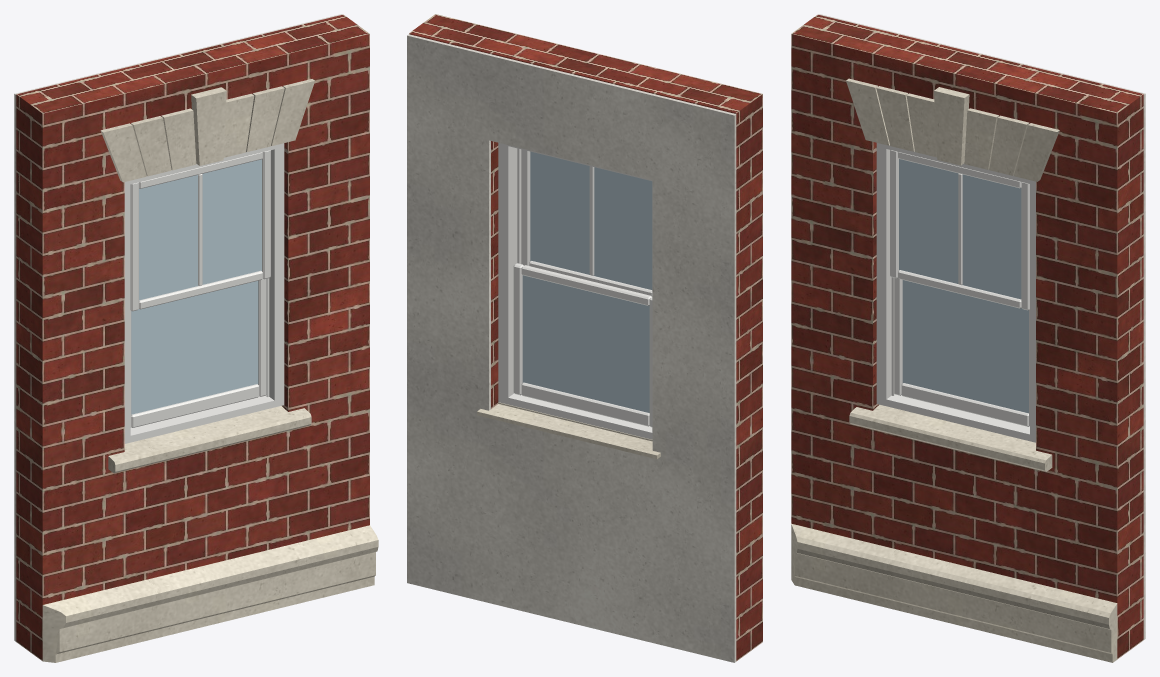
Rendered from u1_wall_window_pvr.glb.
3 views of the same model, side by side, from view 1: azimuth 30°, elevation 25°; view 2: azimuth 150°, elevation 25°; view 3: azimuth 330°, elevation 25° (orthographic).
Visible parts, largest first — view 1: u1_wall_window_pvr_brick, u1_wall_window_pvr_trim, u1_wall_window_pvr_glass, u1_wall_window_pvr_frame, u1_wall_window_pvr_sash, u1_wall_window_pvr_plaster; view 2: u1_wall_window_pvr_plaster, u1_wall_window_pvr_glass, u1_wall_window_pvr_brick, u1_wall_window_pvr_sash, u1_wall_window_pvr_frame, u1_wall_window_pvr_trim; view 3: u1_wall_window_pvr_brick, u1_wall_window_pvr_trim, u1_wall_window_pvr_glass, u1_wall_window_pvr_frame, u1_wall_window_pvr_sash, u1_wall_window_pvr_plaster.
Boxes of the visible parts, <box> form: u1_wall_window_pvr_brick: <box>16,14,369,660</box>; u1_wall_window_pvr_trim: <box>42,79,378,662</box>; u1_wall_window_pvr_glass: <box>131,159,261,414</box>; u1_wall_window_pvr_frame: <box>124,143,284,443</box>; u1_wall_window_pvr_sash: <box>130,150,270,427</box>; u1_wall_window_pvr_plaster: <box>14,14,342,641</box>; u1_wall_window_pvr_plaster: <box>407,34,736,662</box>; u1_wall_window_pvr_glass: <box>522,151,652,412</box>; u1_wall_window_pvr_brick: <box>409,14,762,661</box>; u1_wall_window_pvr_sash: <box>513,149,652,427</box>; u1_wall_window_pvr_frame: <box>498,142,652,439</box>; u1_wall_window_pvr_trim: <box>477,402,660,458</box>; u1_wall_window_pvr_brick: <box>791,14,1143,659</box>; u1_wall_window_pvr_trim: <box>791,78,1117,662</box>; u1_wall_window_pvr_glass: <box>899,159,1028,413</box>; u1_wall_window_pvr_frame: <box>876,143,1035,442</box>; u1_wall_window_pvr_sash: <box>890,150,1029,426</box>; u1_wall_window_pvr_plaster: <box>819,14,1145,639</box>.
Size of the model in its own units: 2 by 3.2 by 0.43.
6 materials, 3 textured.
